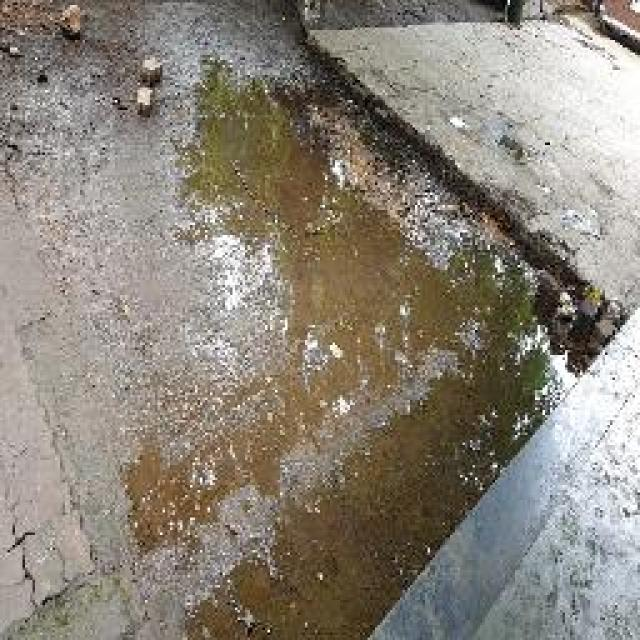puddle: (118, 67, 585, 640)
